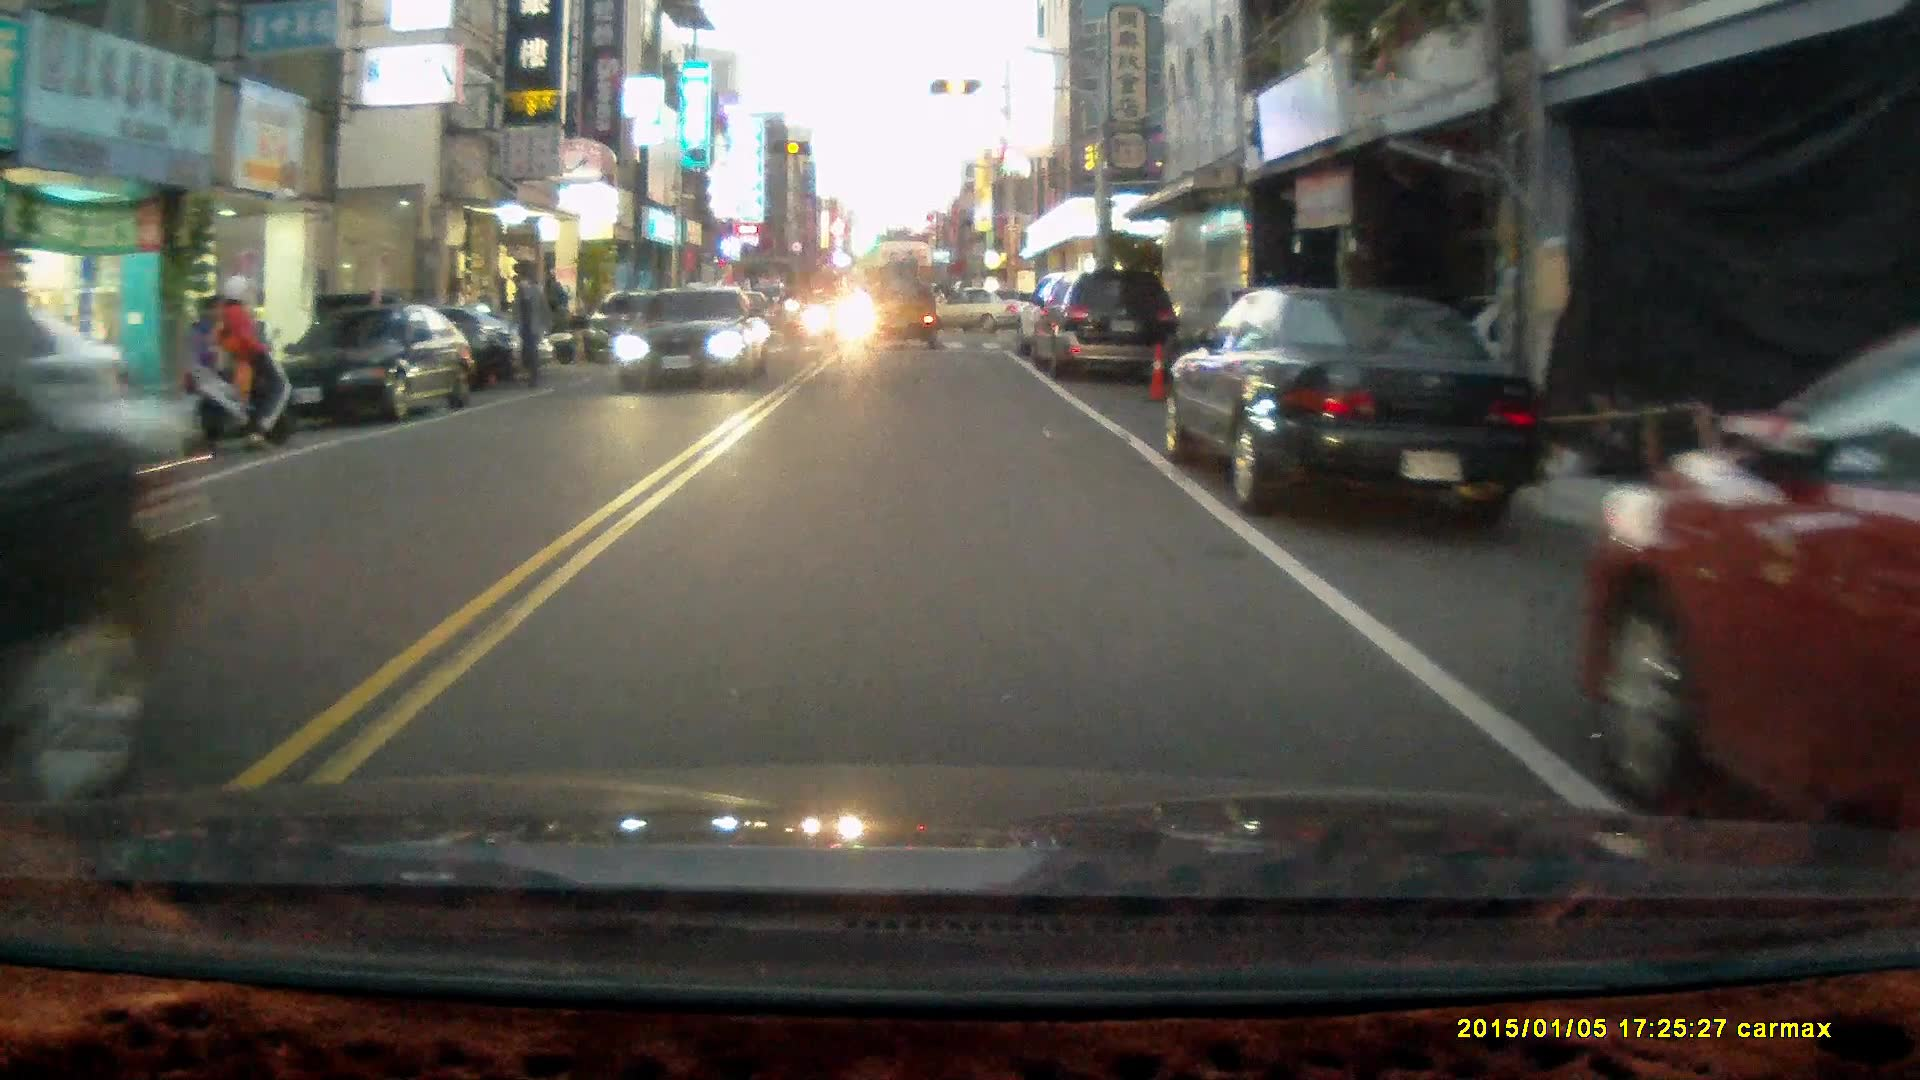pedestrian: (510, 267, 551, 390)
rider: (175, 273, 297, 448)
vehicle: (1584, 320, 1920, 861), (1160, 284, 1552, 535), (260, 297, 469, 422), (1026, 269, 1184, 382), (616, 282, 771, 390), (865, 265, 942, 354), (918, 286, 1047, 336)
